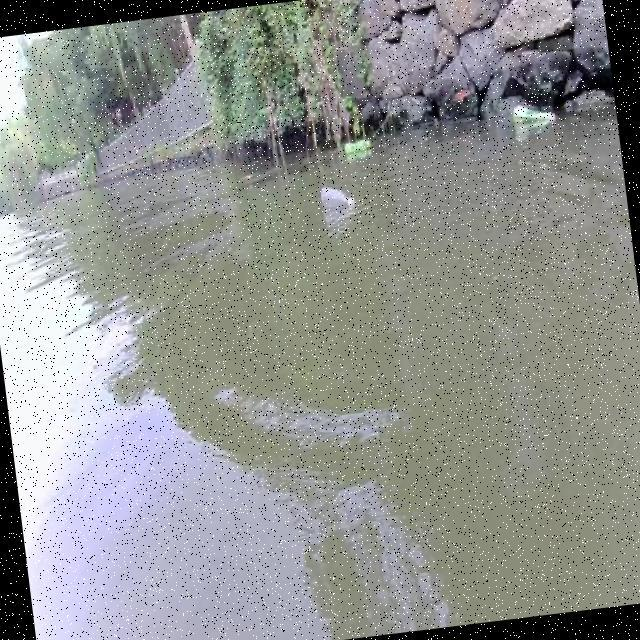Bottle: (312, 183, 363, 216), (508, 104, 559, 130), (338, 136, 377, 158)
